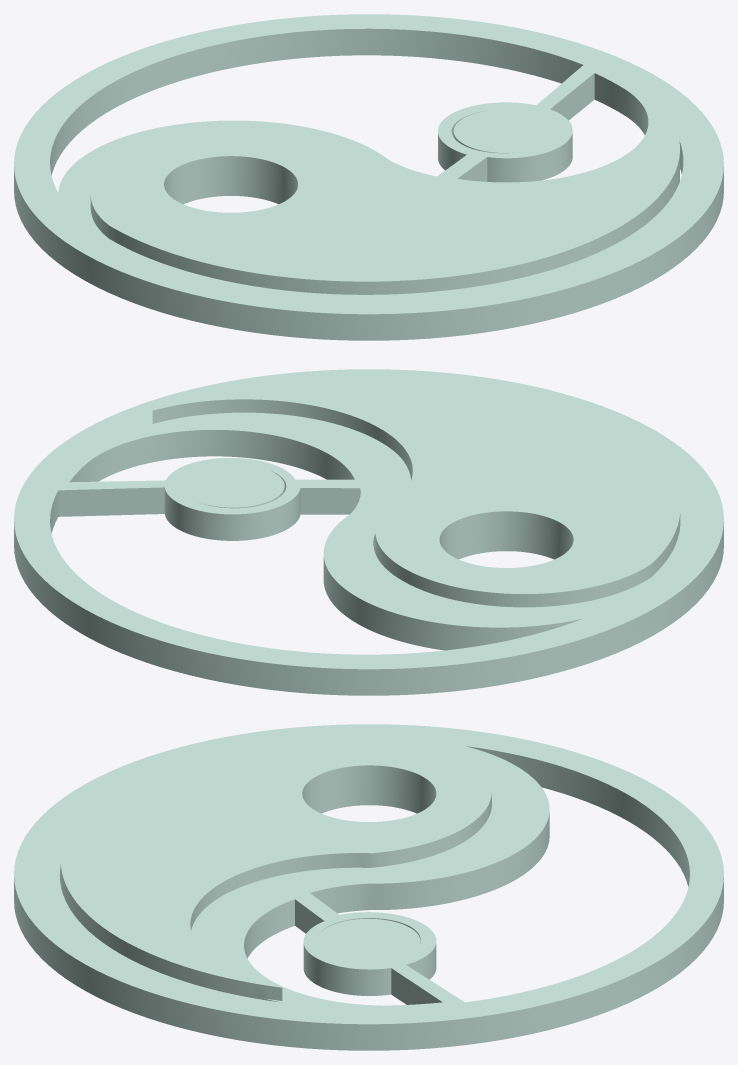
The picture shows the model from 3 angles, top to bottom: view 1: azimuth 30°, elevation 25°; view 2: azimuth 150°, elevation 25°; view 3: azimuth 270°, elevation 25°; orthographic projection.
Visible parts, largest first — view 1: Renderer Node; view 2: Renderer Node; view 3: Renderer Node.
Boxes of the visible parts, x1,y1,x2,y2 form: Renderer Node: (14, 14, 723, 340); Renderer Node: (14, 369, 723, 695); Renderer Node: (14, 724, 723, 1050).
Size of the model in its own units: 1.52 by 0.0938 by 1.52.
